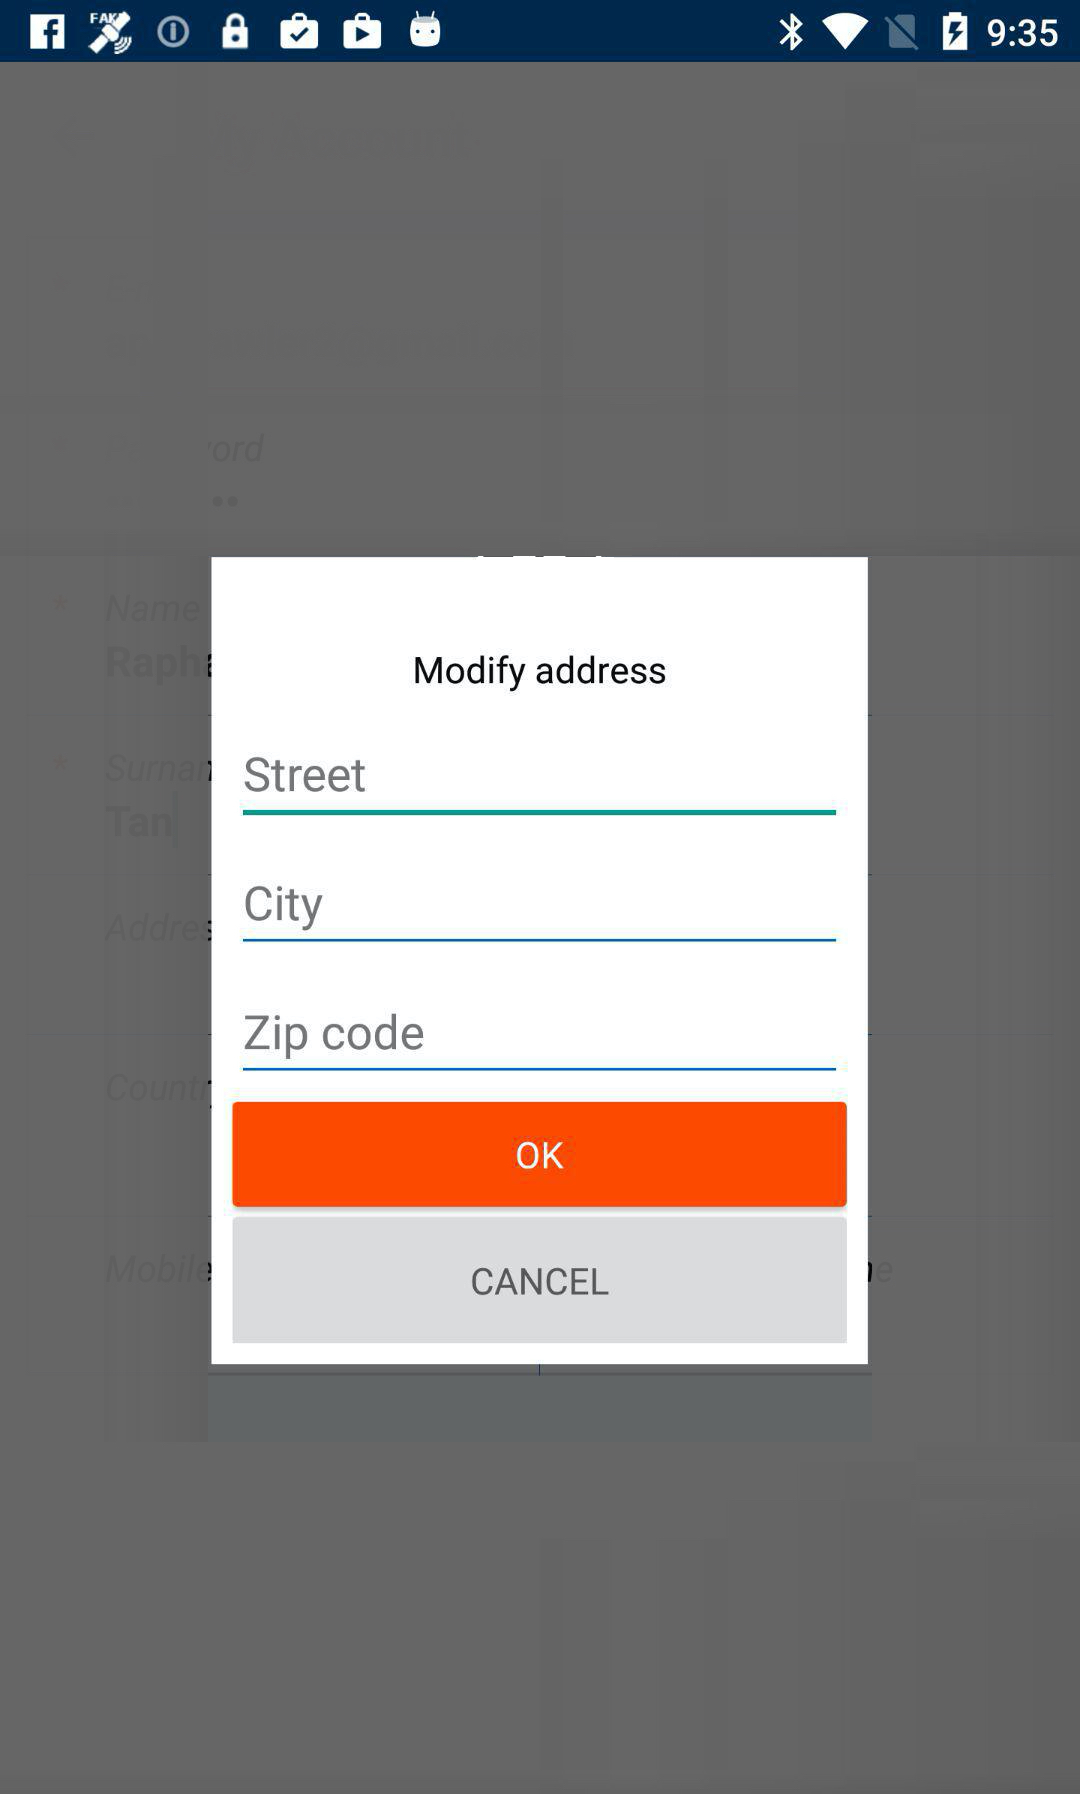EditText: (243, 757, 837, 816), (243, 1014, 837, 1073), (243, 885, 837, 942)
Modal: (211, 557, 869, 1365)
Text: (415, 655, 667, 693), (242, 1014, 427, 1060), (243, 757, 366, 794), (243, 885, 324, 932)
TextButton: (234, 1217, 848, 1344), (233, 1102, 847, 1207)
UpperTaskBar: (1, 1, 1080, 64)
